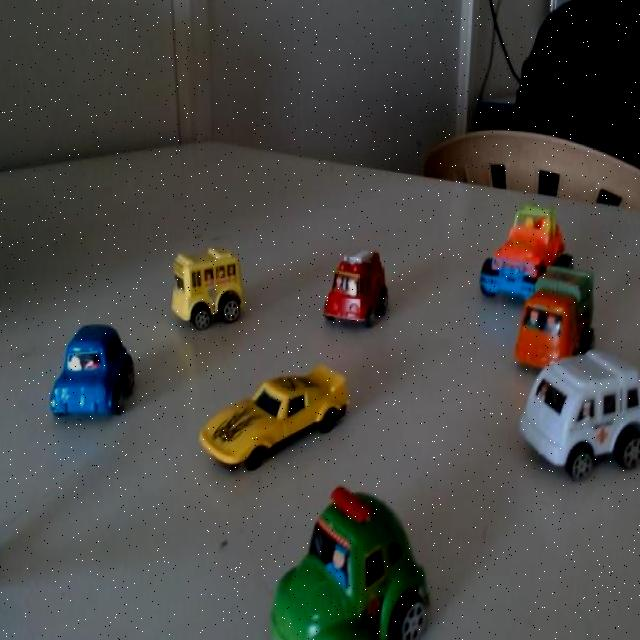car: (251, 483, 436, 640), (499, 324, 640, 505), (207, 356, 341, 480), (469, 195, 554, 303), (166, 243, 253, 343), (322, 236, 399, 346), (47, 322, 126, 426), (520, 259, 586, 376)
